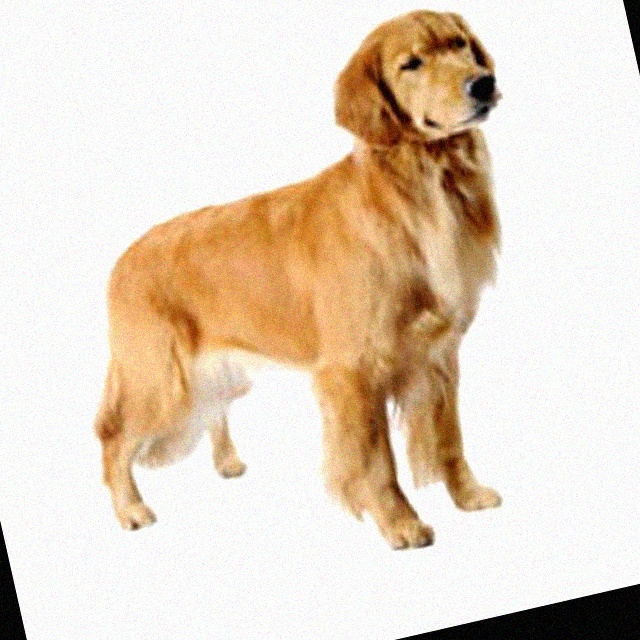dog: (0, 0, 618, 628)
